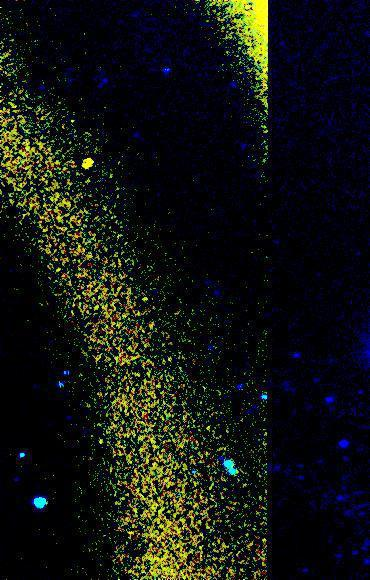star: (71, 148, 101, 178)
